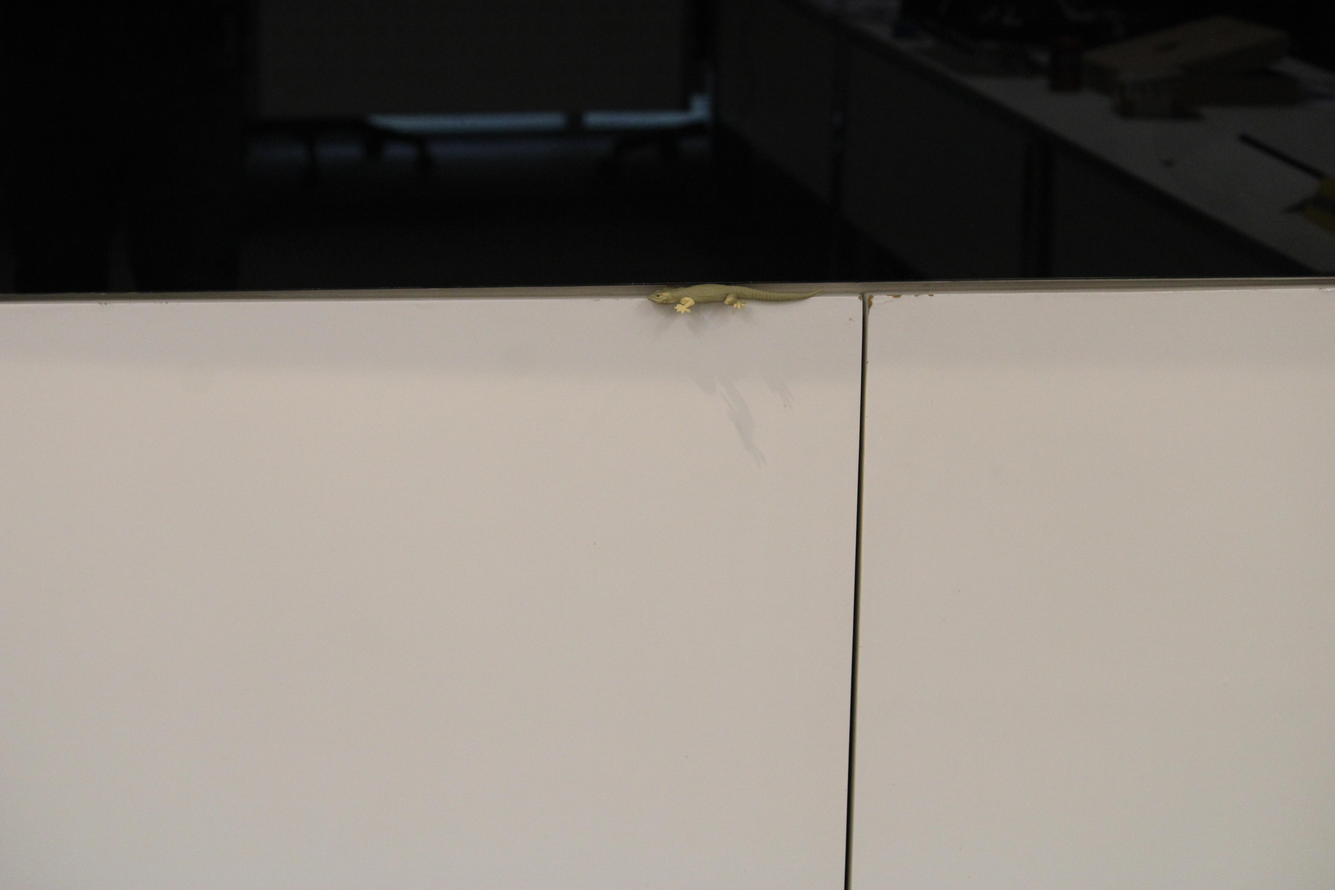lizard: (637, 279, 805, 331)
